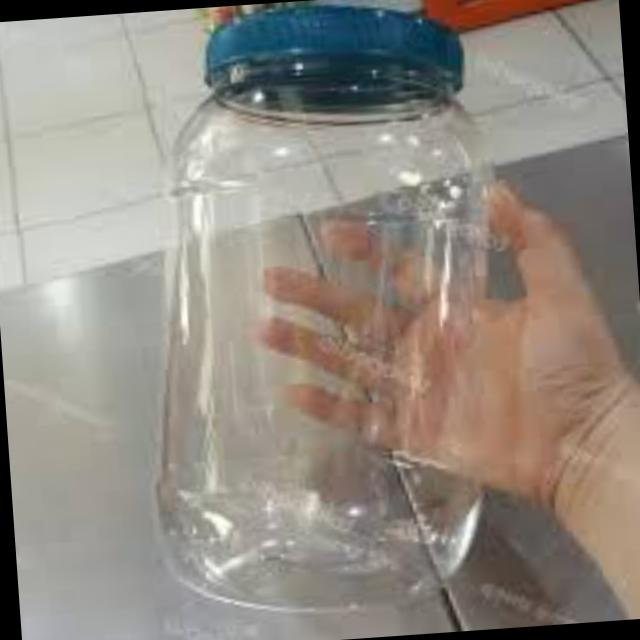ToplesKaca: (105, 0, 524, 620)
